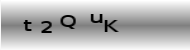2: (40, 20, 53, 33)
K: (103, 19, 119, 32)
Q: (59, 14, 77, 29)
t: (21, 19, 32, 31)
u: (89, 13, 103, 23)
